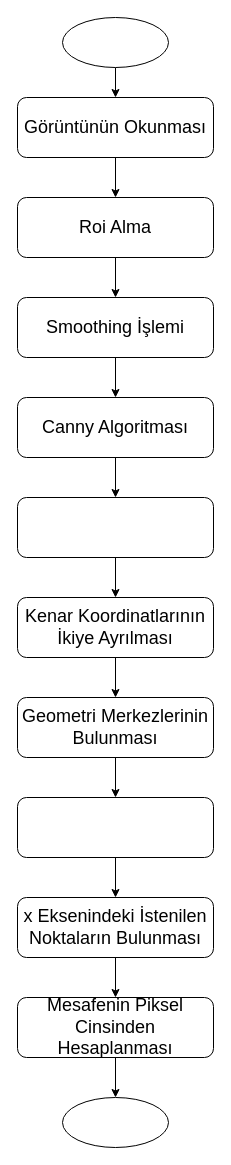
Image size: 231x1165. Some labels were removed from this diagram. The shapes that lost their labels are listed below. From the top down, each one's centre as x and y in pixels, then its label:
At point (115, 42): "BAŞLA".
At point (115, 527): "Contour Çıkarımı".
At point (115, 827): "y Eksenindeki İstenilen Noktaların Bulunması".
At point (115, 1122): "STOP".
